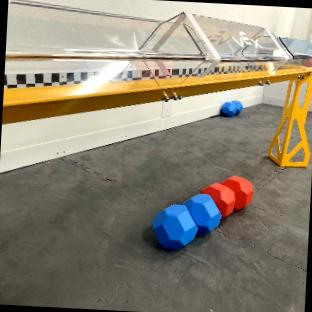Goal: (4, 0, 312, 165)
V5_BLUE: (152, 194, 219, 248), (220, 101, 242, 116)
V5_RED: (201, 176, 253, 216)
